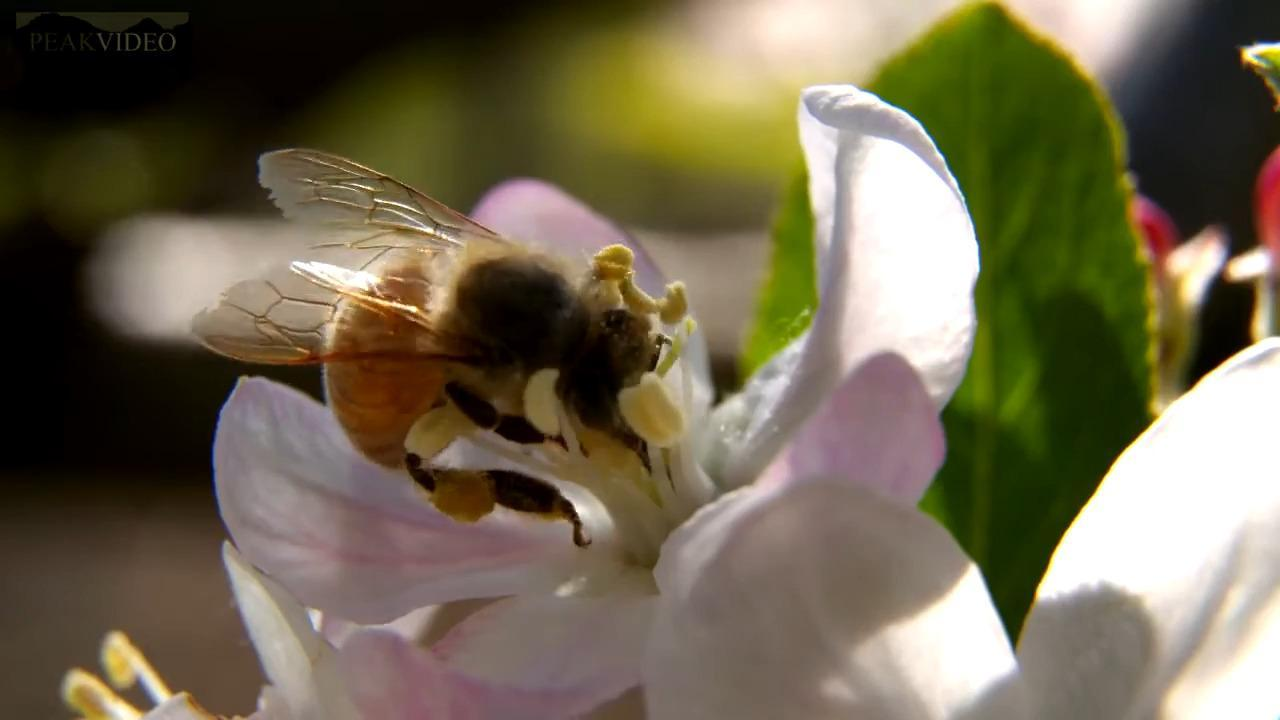bee: (308, 204, 653, 505)
